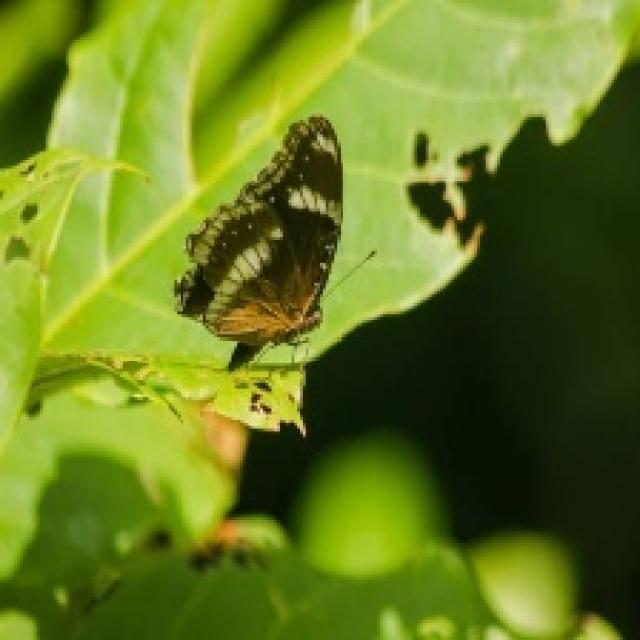butterfly: (172, 111, 374, 372)
